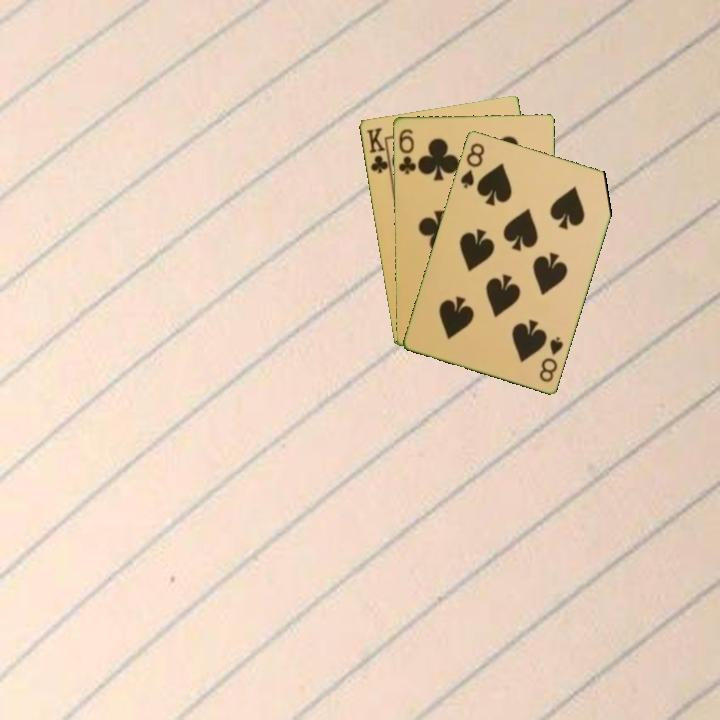6c: (395, 125, 418, 177)
8s: (456, 139, 487, 191), (535, 333, 566, 385)
Kc: (363, 124, 393, 178)
